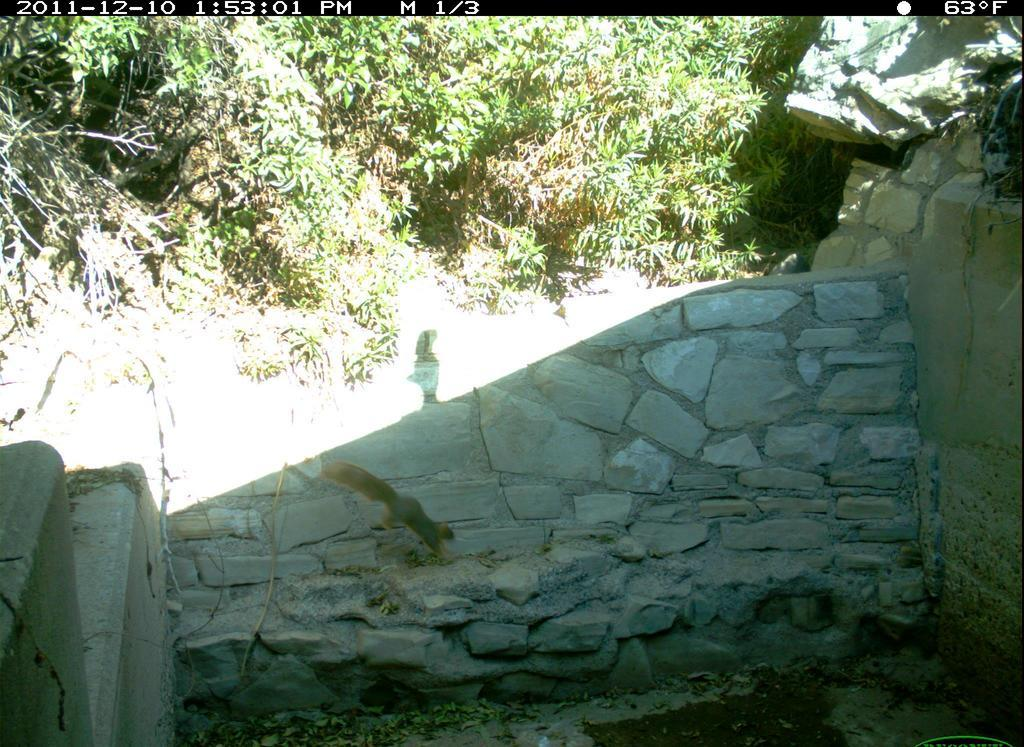squirrel: (314, 455, 473, 570)
